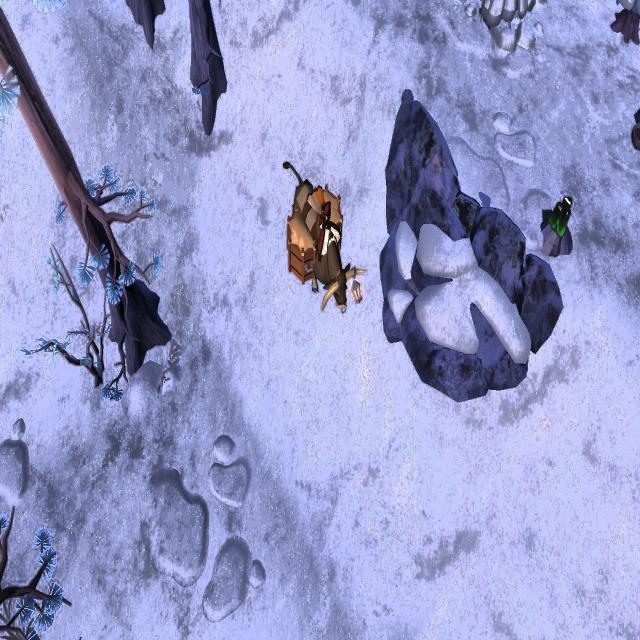ore_t3: (548, 189, 572, 240)
